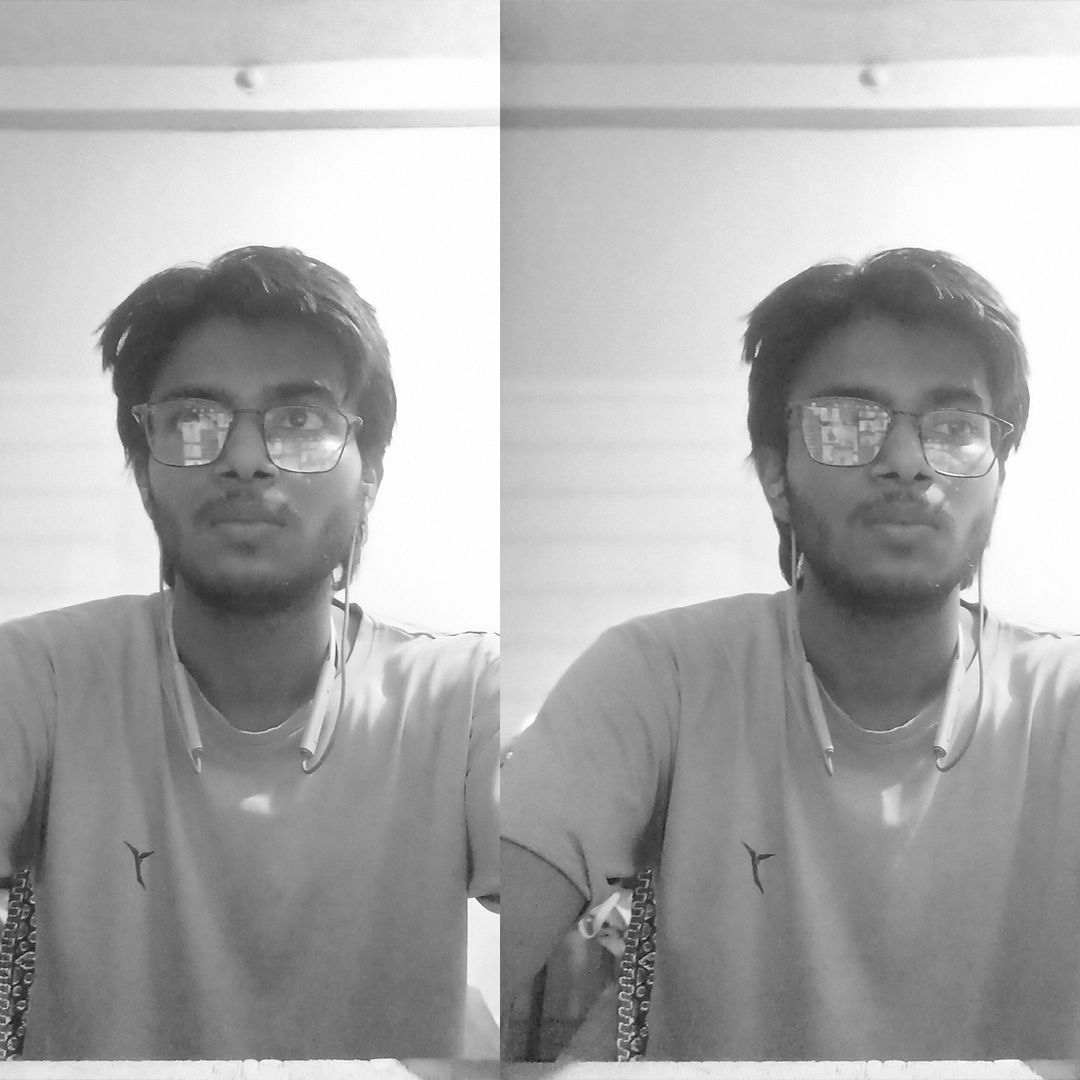Focused: (660, 223, 1029, 712)
distracted: (48, 201, 420, 658)
